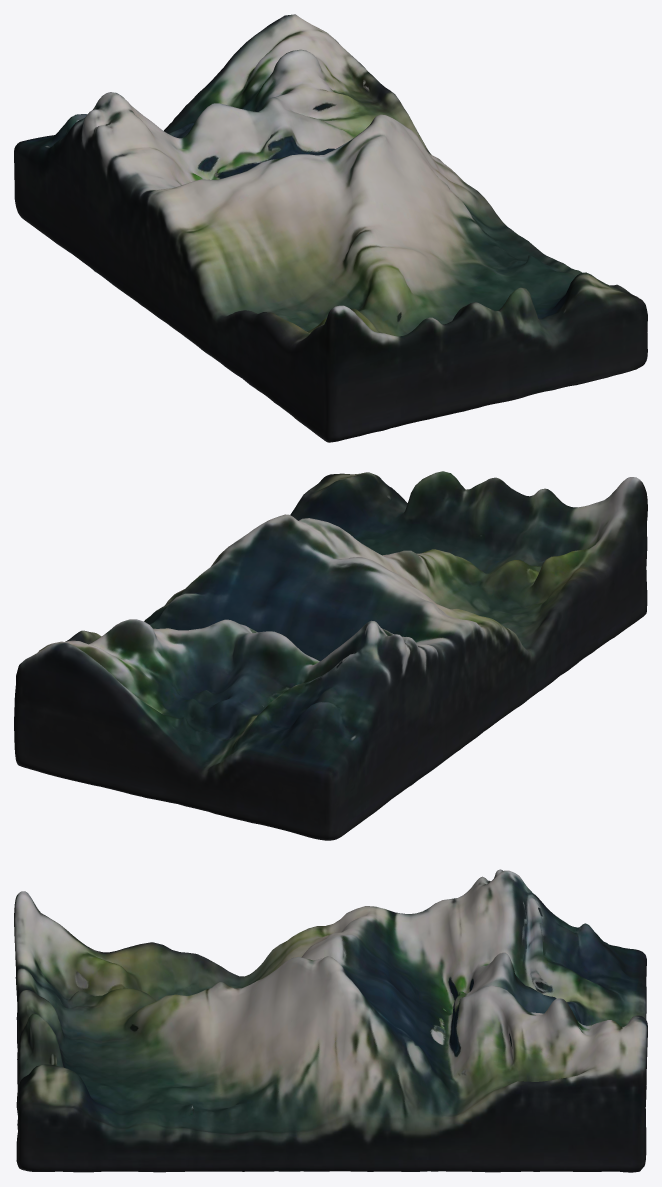
Rendered from 69b03d9a7ddf_mountains__3d_asset.fbx.
The picture shows the model from 3 angles, top to bottom: view 1: azimuth 30°, elevation 25°; view 2: azimuth 150°, elevation 25°; view 3: azimuth 270°, elevation 25°; orthographic projection.
Visible parts, largest first — view 1: mesh; view 2: mesh; view 3: mesh.
Boxes of the visible parts, bbox=[...] form: mesh: bbox=[14, 14, 647, 442]; mesh: bbox=[14, 471, 647, 840]; mesh: bbox=[14, 869, 647, 1172].
Size of the model in its own units: 58.1 by 28.49 by 99.95.
